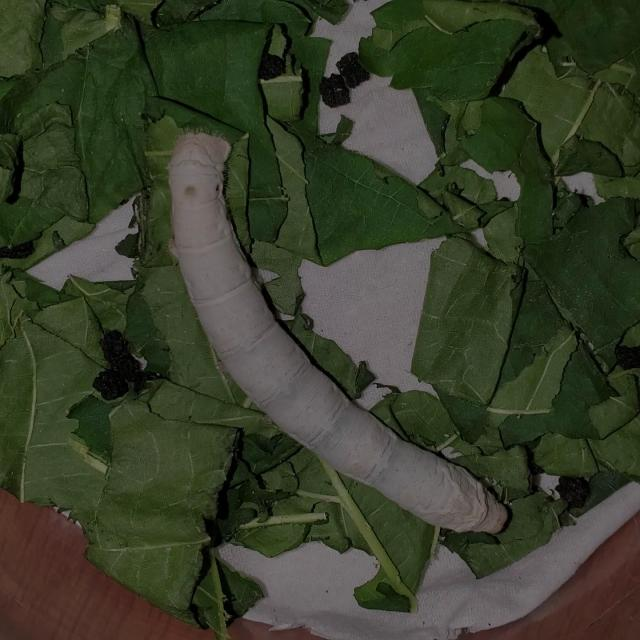Healthy: (146, 106, 535, 548)
